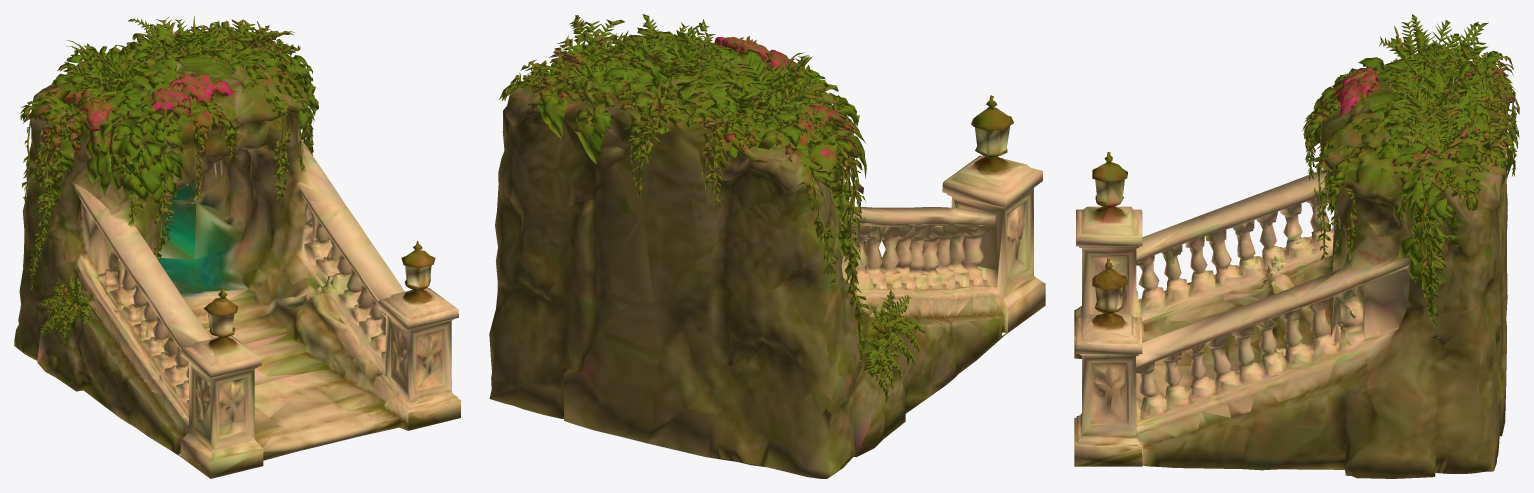
File: cenote.glb
The picture shows the model from 3 angles, left to right: view 1: azimuth 30°, elevation 25°; view 2: azimuth 150°, elevation 25°; view 3: azimuth 270°, elevation 25°; orthographic projection. The views are drawn at different scales.
Parts seen in each view (by area): view 1: Mesh_0; view 2: Mesh_0; view 3: Mesh_0.
Part boxes in pixels (x1=…): Mesh_0: x1=14, y1=15, x2=460, y2=478; Mesh_0: x1=489, y1=14, x2=1045, y2=478; Mesh_0: x1=1074, y1=14, x2=1519, y2=478.
Size of the model in its own units: 1.66 by 1.62 by 1.9.
Materials: 1 (1 with a texture image).
